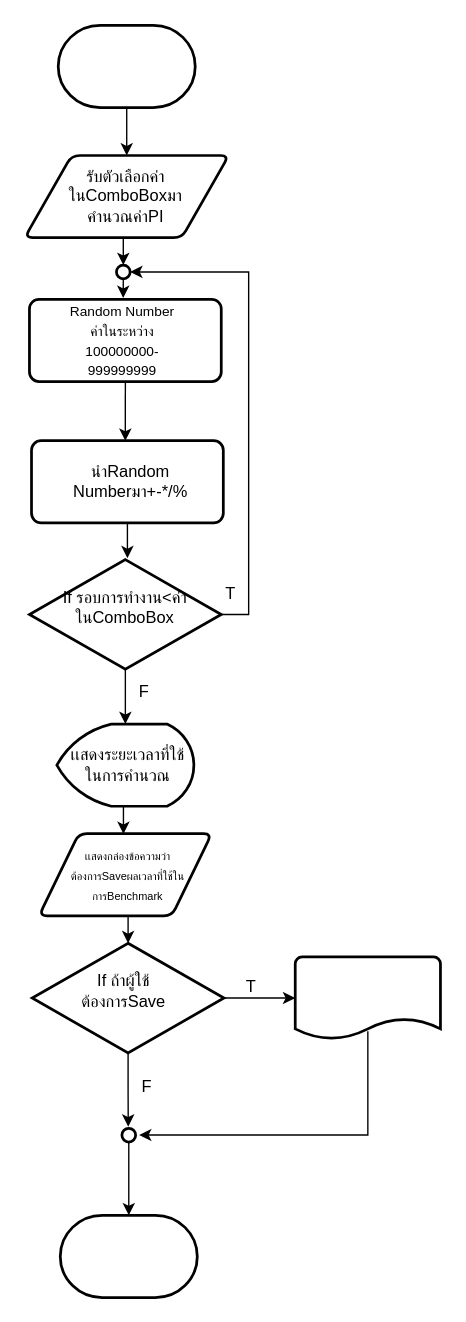
This 466x1322 diagram has some shape labels left out. Here are the shapes that lost their labels. From the top down, the centre of each, then its label:
At [126,65]: "Start".
At [367,997]: "SaveผลBenchmark".
At [128,1255]: "END".
